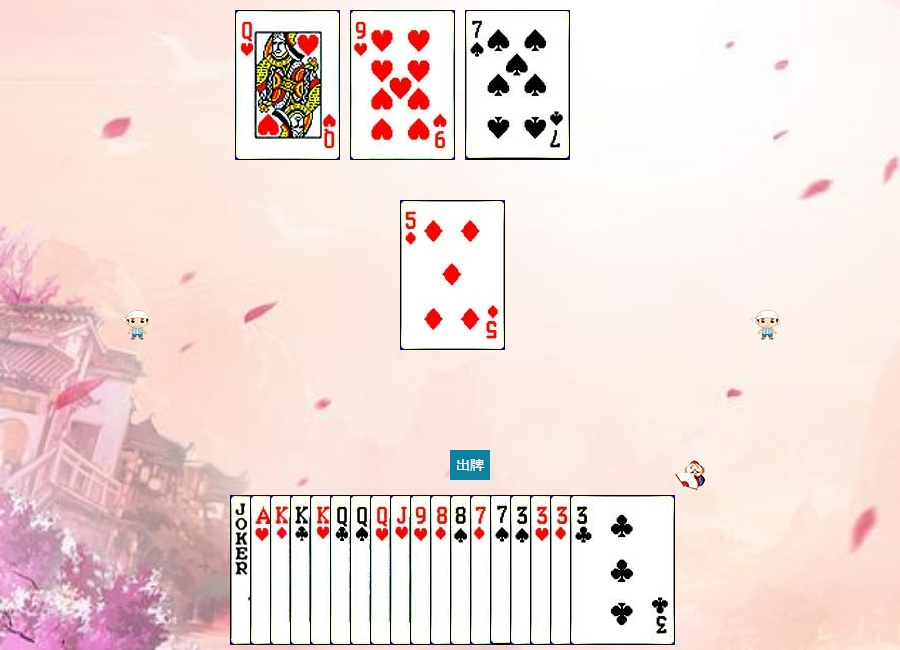11~3: (390, 495, 495, 645)
12~2: (330, 495, 435, 645)
12~3: (235, 10, 340, 160), (370, 495, 475, 645)
12~4: (350, 495, 455, 645)
13~1: (270, 495, 375, 645)
13~2: (290, 495, 395, 645)
13~3: (310, 495, 415, 645)
14~3: (250, 495, 355, 645)
17~3: (230, 495, 335, 645)
3~1: (550, 495, 655, 645)
3~2: (570, 495, 675, 645)
3~3: (530, 495, 635, 645)
3~4: (510, 495, 615, 645)
5~1: (400, 200, 505, 350)
7~1: (470, 495, 575, 645)
7~4: (465, 10, 570, 160), (490, 495, 595, 645)
8~1: (430, 495, 535, 645)
8~4: (450, 495, 555, 645)
9~3: (350, 10, 455, 160), (410, 495, 515, 645)
